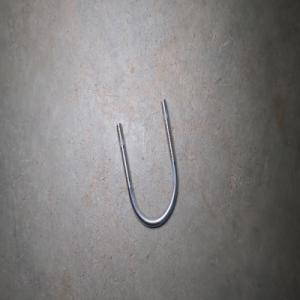ClampPart: (115, 98, 178, 228)
